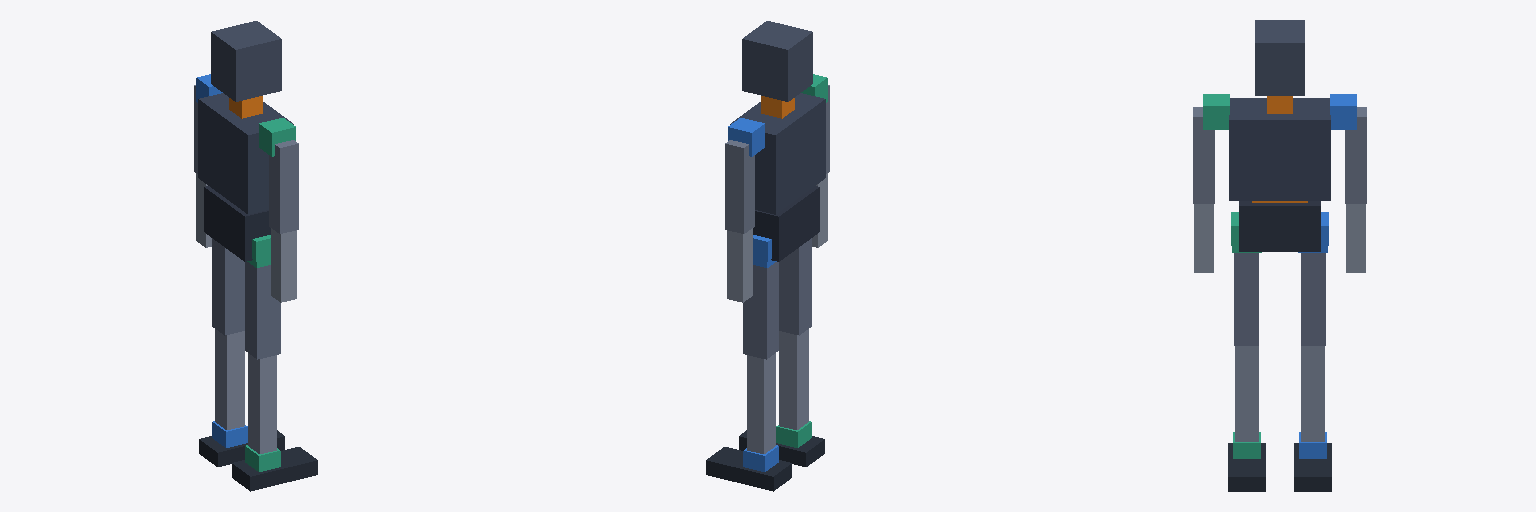
The robot description file, URDF, robot "humanoid_5ft_isaac":
<?xml version='1.0' encoding='utf-8'?>
<robot name="humanoid_5ft_isaac">
  <link name="pelvis">
    <inertial>
      <origin xyz="0 -0 0" rpy="0 0 0" />
      <mass value="3.5" />
      <inertia ixx="0.0149333333" ixy="0" ixz="0" iyy="0.0271833333" iyz="0" izz="0.0271833333" />
    </inertial>
    <visual>
      <origin xyz="0 -0 0" rpy="0 0 0" />
      <geometry>
        <box size="0.16 0.26 0.16" />
      </geometry>
      <material name="pelvis_color">
        <color rgba="0.22 0.25 0.31 1" />
      </material>
    </visual>
    <collision>
      <origin xyz="0 -0 0" rpy="0 0 0" />
      <geometry>
        <box size="0.16 0.26 0.16" />
      </geometry>
    </collision>
  </link>
  <link name="waist_yaw_link">
    <inertial>
      <origin xyz="0 -0 0.01" rpy="0 0 0" />
      <mass value="1" />
      <inertia ixx="0.00140833333" ixy="0" ixz="0" iyy="0.00290833333" iyz="0" izz="0.0039" />
    </inertial>
    <visual>
      <origin xyz="0 -0 0.01" rpy="0 0 0" />
      <geometry>
        <box size="0.12 0.18 0.05" />
      </geometry>
      <material name="waist_yaw_link_color">
        <color rgba="0.95 0.55 0.16 1" />
      </material>
    </visual>
    <collision>
      <origin xyz="0 -0 0.01" rpy="0 0 0" />
      <geometry>
        <box size="0.12 0.18 0.05" />
      </geometry>
    </collision>
  </link>
  <link name="torso">
    <inertial>
      <origin xyz="0 -0 0.14" rpy="0 0 0" />
      <mass value="8.2" />
      <inertia ixx="0.0733216667" ixy="0" ixz="0" iyy="0.123546667" iyz="0" izz="0.0897216667" />
    </inertial>
    <visual>
      <origin xyz="0 -0 0.14" rpy="0 0 0" />
      <geometry>
        <box size="0.17 0.32 0.28" />
      </geometry>
      <material name="torso_color">
        <color rgba="0.28 0.32 0.4 1" />
      </material>
    </visual>
    <collision>
      <origin xyz="0 -0 0.14" rpy="0 0 0" />
      <geometry>
        <box size="0.17 0.32 0.28" />
      </geometry>
    </collision>
  </link>
  <link name="left_hip_yaw_link">
    <inertial>
      <origin xyz="0 -0 -0.02" rpy="0 0 0" />
      <mass value="1.1" />
      <inertia ixx="0.00145979167" ixy="0" ixz="0" iyy="0.00136583333" iyz="0" izz="0.00192729167" />
    </inertial>
    <visual>
      <origin xyz="0 -0 -0.02" rpy="0 0 0" />
      <geometry>
        <box size="0.105 0.1 0.07" />
      </geometry>
      <material name="left_hip_yaw_link_color">
        <color rgba="0.27 0.55 0.91 1" />
      </material>
    </visual>
    <collision>
      <origin xyz="0 -0 -0.02" rpy="0 0 0" />
      <geometry>
        <box size="0.105 0.1 0.07" />
      </geometry>
    </collision>
  </link>
  <link name="left_hip_roll_link">
    <inertial>
      <origin xyz="0 -0 -0.02" rpy="0 0 0" />
      <mass value="1.1" />
      <inertia ixx="0.00136583333" ixy="0" ixz="0" iyy="0.00127645833" iyz="0" izz="0.00174395833" />
    </inertial>
    <visual>
      <origin xyz="0 -0 -0.02" rpy="0 0 0" />
      <geometry>
        <box size="0.1 0.095 0.07" />
      </geometry>
      <material name="left_hip_roll_link_color">
        <color rgba="0.27 0.55 0.91 1" />
      </material>
    </visual>
    <collision>
      <origin xyz="0 -0 -0.02" rpy="0 0 0" />
      <geometry>
        <box size="0.1 0.095 0.07" />
      </geometry>
    </collision>
  </link>
  <link name="left_thigh">
    <inertial>
      <origin xyz="0 -0 -0.1775" rpy="0 0 0" />
      <mass value="3.6" />
      <inertia ixx="0.0408318" ixy="0" ixz="0" iyy="0.0405843" iyz="0" izz="0.0040875" />
    </inertial>
    <visual>
      <origin xyz="0 -0 -0.1775" rpy="0 0 0" />
      <geometry>
        <box size="0.085 0.08 0.359" />
      </geometry>
      <material name="left_thigh_color">
        <color rgba="0.45 0.49 0.58 1" />
      </material>
    </visual>
    <collision>
      <origin xyz="0 -0 -0.1775" rpy="0 0 0" />
      <geometry>
        <box size="0.085 0.08 0.359" />
      </geometry>
    </collision>
  </link>
  <link name="left_shank">
    <inertial>
      <origin xyz="0 -0 -0.185" rpy="0 0 0" />
      <mass value="2.4" />
      <inertia ixx="0.0288202" ixy="0" ixz="0" iyy="0.0291002" iyz="0" izz="0.00197" />
    </inertial>
    <visual>
      <origin xyz="0 -0 -0.185" rpy="0 0 0" />
      <geometry>
        <box size="0.065 0.075 0.374" />
      </geometry>
      <material name="left_shank_color">
        <color rgba="0.55 0.59 0.67 1" />
      </material>
    </visual>
    <collision>
      <origin xyz="0 -0 -0.185" rpy="0 0 0" />
      <geometry>
        <box size="0.065 0.075 0.374" />
      </geometry>
    </collision>
  </link>
  <link name="left_ankle_pitch_link">
    <inertial>
      <origin xyz="0 -0 0" rpy="0 0 0" />
      <mass value="0.35" />
      <inertia ixx="0.000291666667" ixy="0" ixz="0" iyy="0.00034125" iyz="0" izz="0.000422916667" />
    </inertial>
    <visual>
      <origin xyz="0 -0 0" rpy="0 0 0" />
      <geometry>
        <box size="0.08 0.09 0.06" />
      </geometry>
      <material name="left_ankle_pitch_link_color">
        <color rgba="0.27 0.55 0.91 1" />
      </material>
    </visual>
    <collision>
      <origin xyz="0 -0 0" rpy="0 0 0" />
      <geometry>
        <box size="0.08 0.09 0.06" />
      </geometry>
    </collision>
  </link>
  <link name="left_foot">
    <inertial>
      <origin xyz="0.045 -0 -0.054" rpy="0 0 0" />
      <mass value="0.65" />
      <inertia ixx="0.00353188333" ixy="0" ixz="0" iyy="0.000926466667" iyz="0" izz="0.00416541667" />
    </inertial>
    <visual>
      <origin xyz="0.045 -0 -0.054" rpy="0 0 0" />
      <geometry>
        <box size="0.25 0.12 0.052" />
      </geometry>
      <material name="left_foot_color">
        <color rgba="0.2 0.23 0.28 1" />
      </material>
    </visual>
    <collision>
      <origin xyz="0.045 -0 -0.054" rpy="0 0 0" />
      <geometry>
        <box size="0.25 0.12 0.052" />
      </geometry>
    </collision>
  </link>
  <link name="right_hip_yaw_link">
    <inertial>
      <origin xyz="0 -0 -0.02" rpy="0 0 0" />
      <mass value="1.1" />
      <inertia ixx="0.00145979167" ixy="0" ixz="0" iyy="0.00136583333" iyz="0" izz="0.00192729167" />
    </inertial>
    <visual>
      <origin xyz="0 -0 -0.02" rpy="0 0 0" />
      <geometry>
        <box size="0.105 0.1 0.07" />
      </geometry>
      <material name="right_hip_yaw_link_color">
        <color rgba="0.25 0.72 0.58 1" />
      </material>
    </visual>
    <collision>
      <origin xyz="0 -0 -0.02" rpy="0 0 0" />
      <geometry>
        <box size="0.105 0.1 0.07" />
      </geometry>
    </collision>
  </link>
  <link name="right_hip_roll_link">
    <inertial>
      <origin xyz="0 -0 -0.02" rpy="0 0 0" />
      <mass value="1.1" />
      <inertia ixx="0.00136583333" ixy="0" ixz="0" iyy="0.00127645833" iyz="0" izz="0.00174395833" />
    </inertial>
    <visual>
      <origin xyz="0 -0 -0.02" rpy="0 0 0" />
      <geometry>
        <box size="0.1 0.095 0.07" />
      </geometry>
      <material name="right_hip_roll_link_color">
        <color rgba="0.25 0.72 0.58 1" />
      </material>
    </visual>
    <collision>
      <origin xyz="0 -0 -0.02" rpy="0 0 0" />
      <geometry>
        <box size="0.1 0.095 0.07" />
      </geometry>
    </collision>
  </link>
  <link name="right_thigh">
    <inertial>
      <origin xyz="0 -0 -0.1775" rpy="0 0 0" />
      <mass value="3.6" />
      <inertia ixx="0.0408318" ixy="0" ixz="0" iyy="0.0405843" iyz="0" izz="0.0040875" />
    </inertial>
    <visual>
      <origin xyz="0 -0 -0.1775" rpy="0 0 0" />
      <geometry>
        <box size="0.085 0.08 0.359" />
      </geometry>
      <material name="right_thigh_color">
        <color rgba="0.45 0.49 0.58 1" />
      </material>
    </visual>
    <collision>
      <origin xyz="0 -0 -0.1775" rpy="0 0 0" />
      <geometry>
        <box size="0.085 0.08 0.359" />
      </geometry>
    </collision>
  </link>
  <link name="right_shank">
    <inertial>
      <origin xyz="0 -0 -0.185" rpy="0 0 0" />
      <mass value="2.4" />
      <inertia ixx="0.0288202" ixy="0" ixz="0" iyy="0.0291002" iyz="0" izz="0.00197" />
    </inertial>
    <visual>
      <origin xyz="0 -0 -0.185" rpy="0 0 0" />
      <geometry>
        <box size="0.065 0.075 0.374" />
      </geometry>
      <material name="right_shank_color">
        <color rgba="0.55 0.59 0.67 1" />
      </material>
    </visual>
    <collision>
      <origin xyz="0 -0 -0.185" rpy="0 0 0" />
      <geometry>
        <box size="0.065 0.075 0.374" />
      </geometry>
    </collision>
  </link>
  <link name="right_ankle_pitch_link">
    <inertial>
      <origin xyz="0 -0 0" rpy="0 0 0" />
      <mass value="0.35" />
      <inertia ixx="0.000291666667" ixy="0" ixz="0" iyy="0.00034125" iyz="0" izz="0.000422916667" />
    </inertial>
    <visual>
      <origin xyz="0 -0 0" rpy="0 0 0" />
      <geometry>
        <box size="0.08 0.09 0.06" />
      </geometry>
      <material name="right_ankle_pitch_link_color">
        <color rgba="0.25 0.72 0.58 1" />
      </material>
    </visual>
    <collision>
      <origin xyz="0 -0 0" rpy="0 0 0" />
      <geometry>
        <box size="0.08 0.09 0.06" />
      </geometry>
    </collision>
  </link>
  <link name="right_foot">
    <inertial>
      <origin xyz="0.045 -0 -0.054" rpy="0 0 0" />
      <mass value="0.65" />
      <inertia ixx="0.00353188333" ixy="0" ixz="0" iyy="0.000926466667" iyz="0" izz="0.00416541667" />
    </inertial>
    <visual>
      <origin xyz="0.045 -0 -0.054" rpy="0 0 0" />
      <geometry>
        <box size="0.25 0.12 0.052" />
      </geometry>
      <material name="right_foot_color">
        <color rgba="0.2 0.23 0.28 1" />
      </material>
    </visual>
    <collision>
      <origin xyz="0.045 -0 -0.054" rpy="0 0 0" />
      <geometry>
        <box size="0.25 0.12 0.052" />
      </geometry>
    </collision>
  </link>
  <link name="left_shoulder_pitch_link">
    <inertial>
      <origin xyz="0 -0 0" rpy="0 0 0" />
      <mass value="0.6" />
      <inertia ixx="0.00076625" ixy="0" ixz="0" iyy="0.00071405" iyz="0" izz="0.0007578" />
    </inertial>
    <visual>
      <origin xyz="0 -0 0" rpy="0 0 0" />
      <geometry>
        <box size="0.09 0.084 0.085" />
      </geometry>
      <material name="left_shoulder_pitch_link_color">
        <color rgba="0.27 0.55 0.91 1" />
      </material>
    </visual>
    <collision>
      <origin xyz="0 -0 0" rpy="0 0 0" />
      <geometry>
        <box size="0.09 0.084 0.085" />
      </geometry>
    </collision>
  </link>
  <link name="left_upper_arm">
    <inertial>
      <origin xyz="0 -0 -0.152" rpy="0 0 0" />
      <mass value="1" />
      <inertia ixx="0.00810966667" ixy="0" ixz="0" iyy="0.00810966667" iyz="0" izz="0.000816666667" />
    </inertial>
    <visual>
      <origin xyz="0 -0 -0.152" rpy="0 0 0" />
      <geometry>
        <box size="0.07 0.07 0.304" />
      </geometry>
      <material name="left_upper_arm_color">
        <color rgba="0.48 0.52 0.6 1" />
      </material>
    </visual>
    <collision>
      <origin xyz="0 -0 -0.152" rpy="0 0 0" />
      <geometry>
        <box size="0.07 0.07 0.304" />
      </geometry>
    </collision>
  </link>
  <link name="left_forearm">
    <inertial>
      <origin xyz="0 -0 -0.123" rpy="0 0 0" />
      <mass value="0.6" />
      <inertia ixx="0.003305" ixy="0" ixz="0" iyy="0.00333625" iyz="0" izz="0.00039125" />
    </inertial>
    <visual>
      <origin xyz="0 -0 -0.123" rpy="0 0 0" />
      <geometry>
        <box size="0.06 0.065 0.25" />
      </geometry>
      <material name="left_forearm_color">
        <color rgba="0.58 0.62 0.69 1" />
      </material>
    </visual>
    <collision>
      <origin xyz="0 -0 -0.123" rpy="0 0 0" />
      <geometry>
        <box size="0.06 0.065 0.25" />
      </geometry>
    </collision>
  </link>
  <link name="right_shoulder_pitch_link">
    <inertial>
      <origin xyz="0 -0 0" rpy="0 0 0" />
      <mass value="0.6" />
      <inertia ixx="0.00076625" ixy="0" ixz="0" iyy="0.00071405" iyz="0" izz="0.0007578" />
    </inertial>
    <visual>
      <origin xyz="0 -0 0" rpy="0 0 0" />
      <geometry>
        <box size="0.09 0.084 0.085" />
      </geometry>
      <material name="right_shoulder_pitch_link_color">
        <color rgba="0.25 0.72 0.58 1" />
      </material>
    </visual>
    <collision>
      <origin xyz="0 -0 0" rpy="0 0 0" />
      <geometry>
        <box size="0.09 0.084 0.085" />
      </geometry>
    </collision>
  </link>
  <link name="right_upper_arm">
    <inertial>
      <origin xyz="0 -0 -0.152" rpy="0 0 0" />
      <mass value="1" />
      <inertia ixx="0.00810966667" ixy="0" ixz="0" iyy="0.00810966667" iyz="0" izz="0.000816666667" />
    </inertial>
    <visual>
      <origin xyz="0 -0 -0.152" rpy="0 0 0" />
      <geometry>
        <box size="0.07 0.07 0.304" />
      </geometry>
      <material name="right_upper_arm_color">
        <color rgba="0.48 0.52 0.6 1" />
      </material>
    </visual>
    <collision>
      <origin xyz="0 -0 -0.152" rpy="0 0 0" />
      <geometry>
        <box size="0.07 0.07 0.304" />
      </geometry>
    </collision>
  </link>
  <link name="right_forearm">
    <inertial>
      <origin xyz="0 -0 -0.123" rpy="0 0 0" />
      <mass value="0.6" />
      <inertia ixx="0.003305" ixy="0" ixz="0" iyy="0.00333625" iyz="0" izz="0.00039125" />
    </inertial>
    <visual>
      <origin xyz="0 -0 -0.123" rpy="0 0 0" />
      <geometry>
        <box size="0.06 0.065 0.25" />
      </geometry>
      <material name="right_forearm_color">
        <color rgba="0.58 0.62 0.69 1" />
      </material>
    </visual>
    <collision>
      <origin xyz="0 -0 -0.123" rpy="0 0 0" />
      <geometry>
        <box size="0.06 0.065 0.25" />
      </geometry>
    </collision>
  </link>
  <link name="neck_yaw_link">
    <inertial>
      <origin xyz="0 -0 0.0425" rpy="0 0 0" />
      <mass value="0.3" />
      <inertia ixx="0.000340625" ixy="0" ixz="0" iyy="0.000340625" iyz="0" izz="0.00032" />
    </inertial>
    <visual>
      <origin xyz="0 -0 0.0425" rpy="0 0 0" />
      <geometry>
        <box size="0.08 0.08 0.085" />
      </geometry>
      <material name="neck_yaw_link_color">
        <color rgba="0.95 0.55 0.16 1" />
      </material>
    </visual>
    <collision>
      <origin xyz="0 -0 0.0425" rpy="0 0 0" />
      <geometry>
        <box size="0.08 0.08 0.085" />
      </geometry>
    </collision>
  </link>
  <link name="head">
    <inertial>
      <origin xyz="0 -0 0.092" rpy="0 0 0" />
      <mass value="2.2" />
      <inertia ixx="0.0115052667" ixy="0" ixz="0" iyy="0.0109002667" iyz="0" izz="0.00999166667" />
    </inertial>
    <visual>
      <origin xyz="0 -0 0.092" rpy="0 0 0" />
      <geometry>
        <box size="0.17 0.16 0.184" />
      </geometry>
      <material name="head_color">
        <color rgba="0.32 0.36 0.44 1" />
      </material>
    </visual>
    <collision>
      <origin xyz="0 -0 0.092" rpy="0 0 0" />
      <geometry>
        <box size="0.17 0.16 0.184" />
      </geometry>
    </collision>
  </link>
  <joint name="waist_yaw" type="revolute">
    <parent link="pelvis" />
    <child link="waist_yaw_link" />
    <origin xyz="0 -0 0.08" rpy="0 0 0" />
    <axis xyz="0 -0 1" />
    <limit lower="-1.57079633" upper="1.57079633" effort="50" velocity="8" />
  </joint>
  <joint name="waist_pitch" type="revolute">
    <parent link="waist_yaw_link" />
    <child link="torso" />
    <origin xyz="0 -0 0.02" rpy="0 0 0" />
    <axis xyz="0 -1 0" />
    <limit lower="-0.610865238" upper="0.698131701" effort="60" velocity="8" />
  </joint>
  <joint name="left_hip_yaw" type="revolute">
    <parent link="pelvis" />
    <child link="left_hip_yaw_link" />
    <origin xyz="0 0.105 -0.02" rpy="0 0 0" />
    <axis xyz="0 -0 1" />
    <limit lower="-0.785398163" upper="0.785398163" effort="50" velocity="8" />
  </joint>
  <joint name="left_hip_roll" type="revolute">
    <parent link="left_hip_yaw_link" />
    <child link="left_hip_roll_link" />
    <origin xyz="0 -0 -0.025" rpy="0 0 0" />
    <axis xyz="1 -0 0" />
    <limit lower="-0.698131701" upper="0.698131701" effort="132.25" velocity="6" />
  </joint>
  <joint name="left_hip_pitch" type="revolute">
    <parent link="left_hip_roll_link" />
    <child link="left_thigh" />
    <origin xyz="0 -0 -0.025" rpy="0 0 0" />
    <axis xyz="0 1 0" />
    <limit lower="-2.0943951" upper="0.785398163" effort="226.8" velocity="14" />
  </joint>
  <joint name="left_knee_pitch" type="revolute">
    <parent link="left_thigh" />
    <child link="left_shank" />
    <origin xyz="0 -0 -0.355" rpy="0 0 0" />
    <axis xyz="0 1 0" />
    <limit lower="0" upper="2.61799388" effort="243" velocity="14" />
  </joint>
  <joint name="left_ankle_pitch" type="revolute">
    <parent link="left_shank" />
    <child link="left_ankle_pitch_link" />
    <origin xyz="0 -0 -0.37" rpy="0 0 0" />
    <axis xyz="0 1 0" />
    <limit lower="-0.872664626" upper="0.610865238" effort="115" velocity="8" />
  </joint>
  <joint name="left_ankle_roll" type="revolute">
    <parent link="left_ankle_pitch_link" />
    <child link="left_foot" />
    <origin xyz="0 -0 0" rpy="0 0 0" />
    <axis xyz="1 -0 0" />
    <limit lower="-0.436332313" upper="0.436332313" effort="65" velocity="6" />
  </joint>
  <joint name="right_hip_yaw" type="revolute">
    <parent link="pelvis" />
    <child link="right_hip_yaw_link" />
    <origin xyz="0 -0.105 -0.02" rpy="0 0 0" />
    <axis xyz="0 -0 1" />
    <limit lower="-0.785398163" upper="0.785398163" effort="50" velocity="8" />
  </joint>
  <joint name="right_hip_roll" type="revolute">
    <parent link="right_hip_yaw_link" />
    <child link="right_hip_roll_link" />
    <origin xyz="0 -0 -0.025" rpy="0 0 0" />
    <axis xyz="1 -0 0" />
    <limit lower="-0.698131701" upper="0.698131701" effort="132.25" velocity="6" />
  </joint>
  <joint name="right_hip_pitch" type="revolute">
    <parent link="right_hip_roll_link" />
    <child link="right_thigh" />
    <origin xyz="0 -0 -0.025" rpy="0 0 0" />
    <axis xyz="0 1 0" />
    <limit lower="-2.0943951" upper="0.785398163" effort="226.8" velocity="14" />
  </joint>
  <joint name="right_knee_pitch" type="revolute">
    <parent link="right_thigh" />
    <child link="right_shank" />
    <origin xyz="0 -0 -0.355" rpy="0 0 0" />
    <axis xyz="0 1 0" />
    <limit lower="0" upper="2.61799388" effort="243" velocity="14" />
  </joint>
  <joint name="right_ankle_pitch" type="revolute">
    <parent link="right_shank" />
    <child link="right_ankle_pitch_link" />
    <origin xyz="0 -0 -0.37" rpy="0 0 0" />
    <axis xyz="0 1 0" />
    <limit lower="-0.872664626" upper="0.610865238" effort="115" velocity="8" />
  </joint>
  <joint name="right_ankle_roll" type="revolute">
    <parent link="right_ankle_pitch_link" />
    <child link="right_foot" />
    <origin xyz="0 -0 0" rpy="0 0 0" />
    <axis xyz="1 -0 0" />
    <limit lower="-0.436332313" upper="0.436332313" effort="65" velocity="6" />
  </joint>
  <joint name="left_shoulder_pitch" type="revolute">
    <parent link="torso" />
    <child link="left_shoulder_pitch_link" />
    <origin xyz="0 0.2 0.27" rpy="0 0 0" />
    <axis xyz="0 -1 0" />
    <limit lower="-2.7925268" upper="2.7925268" effort="32" velocity="15" />
  </joint>
  <joint name="left_shoulder_roll" type="revolute">
    <parent link="left_shoulder_pitch_link" />
    <child link="left_upper_arm" />
    <origin xyz="0 0.04 0" rpy="0 0 0" />
    <axis xyz="1 -0 0" />
    <limit lower="-1.65806279" upper="1.65806279" effort="30" velocity="15" />
  </joint>
  <joint name="left_elbow_pitch" type="revolute">
    <parent link="left_upper_arm" />
    <child link="left_forearm" />
    <origin xyz="0 -0 -0.3" rpy="0 0 0" />
    <axis xyz="0 -1 0" />
    <limit lower="0" upper="2.44346095" effort="26" velocity="18" />
  </joint>
  <joint name="right_shoulder_pitch" type="revolute">
    <parent link="torso" />
    <child link="right_shoulder_pitch_link" />
    <origin xyz="0 -0.2 0.27" rpy="0 0 0" />
    <axis xyz="0 -1 0" />
    <limit lower="-2.7925268" upper="2.7925268" effort="32" velocity="15" />
  </joint>
  <joint name="right_shoulder_roll" type="revolute">
    <parent link="right_shoulder_pitch_link" />
    <child link="right_upper_arm" />
    <origin xyz="0 -0.04 0" rpy="0 0 0" />
    <axis xyz="1 -0 0" />
    <limit lower="-1.65806279" upper="1.65806279" effort="30" velocity="15" />
  </joint>
  <joint name="right_elbow_pitch" type="revolute">
    <parent link="right_upper_arm" />
    <child link="right_forearm" />
    <origin xyz="0 -0 -0.3" rpy="0 0 0" />
    <axis xyz="0 -1 0" />
    <limit lower="0" upper="2.44346095" effort="26" velocity="18" />
  </joint>
  <joint name="head_yaw" type="revolute">
    <parent link="torso" />
    <child link="neck_yaw_link" />
    <origin xyz="0 -0 0.28" rpy="0 0 0" />
    <axis xyz="0 -0 1" />
    <limit lower="-1.57079633" upper="1.57079633" effort="7" velocity="5" />
  </joint>
  <joint name="head_pitch" type="revolute">
    <parent link="neck_yaw_link" />
    <child link="head" />
    <origin xyz="0 -0 0.085" rpy="0 0 0" />
    <axis xyz="0 -1 0" />
    <limit lower="-0.610865238" upper="0.610865238" effort="7" velocity="5" />
  </joint>
</robot>

--- Render facts (derived) ---
The picture shows the robot from 3 angles, left to right: view 1: azimuth 30°, elevation 25°; view 2: azimuth 150°, elevation 25°; view 3: azimuth 270°, elevation 25°; orthographic projection.
Robot: humanoid_5ft_isaac — 23 links, 22 joints (22 revolute); root link pelvis; default pose: every joint at zero.
Visible links, largest first — view 1: torso, head, right_thigh, left_shank, pelvis, right_shank, left_thigh, right_upper_arm, right_foot, right_forearm, left_foot, right_shoulder_pitch_link (+4 smaller); view 2: torso, head, left_thigh, right_shank, pelvis, left_shank, right_thigh, left_upper_arm, left_foot, left_forearm, right_foot, left_shoulder_pitch_link (+4 smaller); view 3: torso, pelvis, head, left_thigh, right_thigh, left_shank, right_shank, left_upper_arm, right_upper_arm, left_foot, right_foot, left_forearm (+3 smaller).
Boxes of the visible links, x1,y1,x2,y2 form: torso: (198, 93, 293, 214); head: (211, 21, 281, 101); right_thigh: (245, 262, 280, 359); left_shank: (215, 329, 244, 429); pelvis: (204, 186, 270, 261); right_shank: (248, 353, 276, 453); left_thigh: (212, 238, 244, 335); right_upper_arm: (269, 140, 298, 233); right_foot: (232, 447, 317, 491); right_forearm: (271, 228, 296, 302); left_foot: (199, 430, 284, 466); right_shoulder_pitch_link: (259, 118, 295, 156); torso: (730, 93, 825, 214); head: (742, 21, 812, 101); left_thigh: (743, 262, 778, 359); right_shank: (779, 329, 808, 429); pelvis: (753, 186, 819, 261); left_shank: (747, 353, 775, 453); right_thigh: (779, 238, 811, 335); left_upper_arm: (725, 140, 754, 233); left_foot: (706, 447, 791, 491); left_forearm: (727, 228, 752, 302); right_foot: (739, 430, 824, 466); left_shoulder_pitch_link: (728, 118, 764, 156); torso: (1229, 98, 1330, 200); pelvis: (1239, 201, 1320, 251); head: (1255, 20, 1304, 95); left_thigh: (1301, 253, 1325, 345); right_thigh: (1234, 253, 1258, 345); left_shank: (1301, 346, 1324, 441); right_shank: (1235, 346, 1258, 441); left_upper_arm: (1345, 107, 1366, 203); right_upper_arm: (1193, 107, 1214, 203); left_foot: (1294, 443, 1331, 491); right_foot: (1228, 443, 1265, 491); left_forearm: (1346, 204, 1365, 272).
Size in the robot's own frame: 0.255 by 0.55 by 1.52 metres.
Geometry: primitives only (box / cylinder / sphere), no mesh files.
